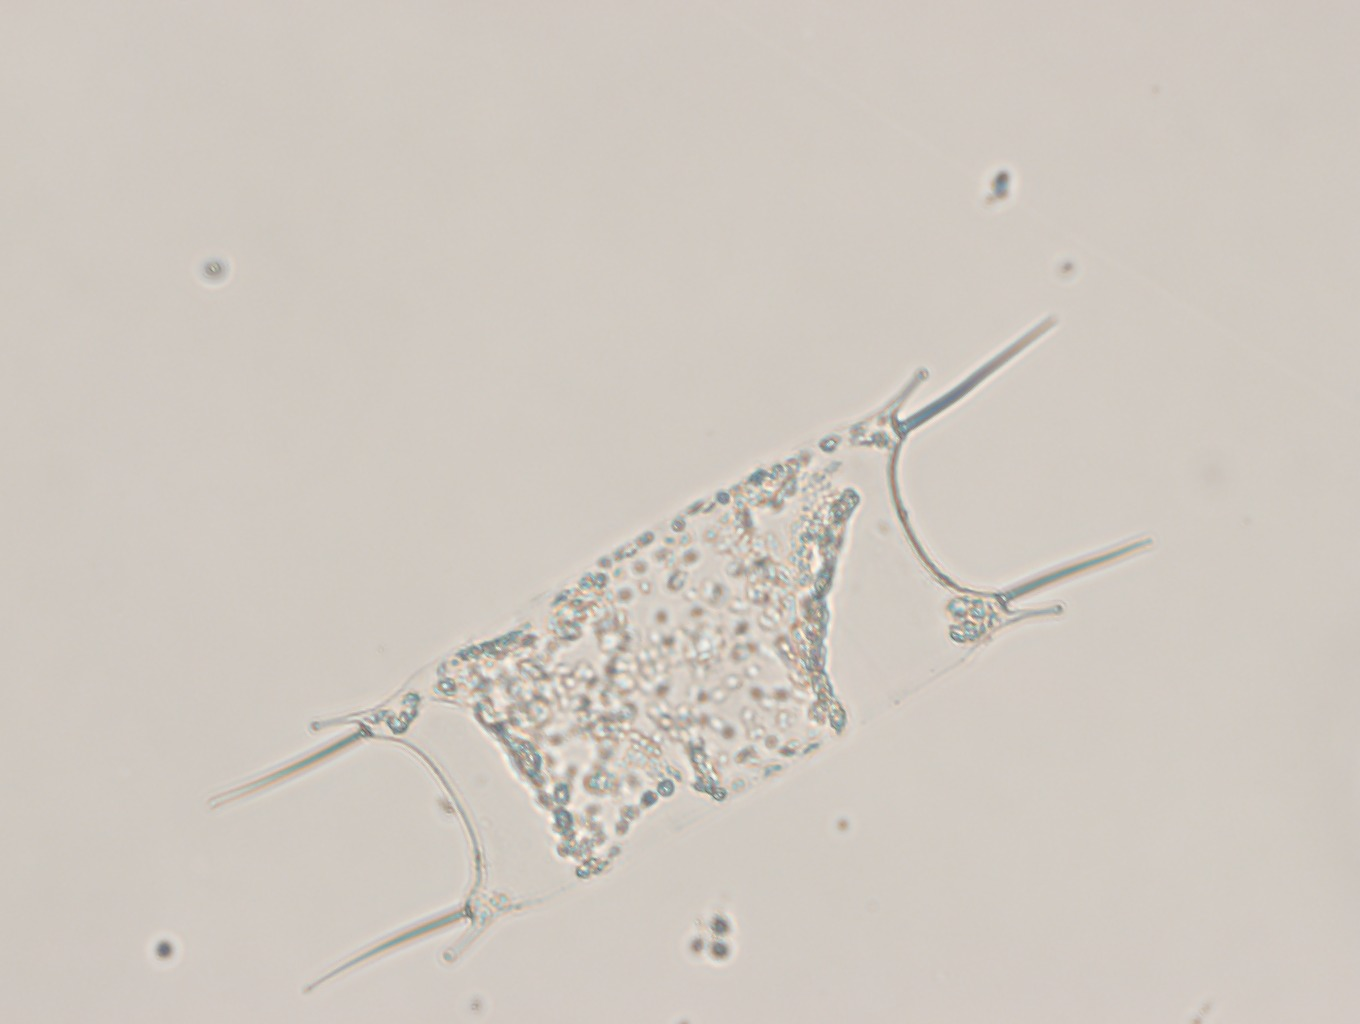biddulphia: (184, 314, 1156, 1001)
